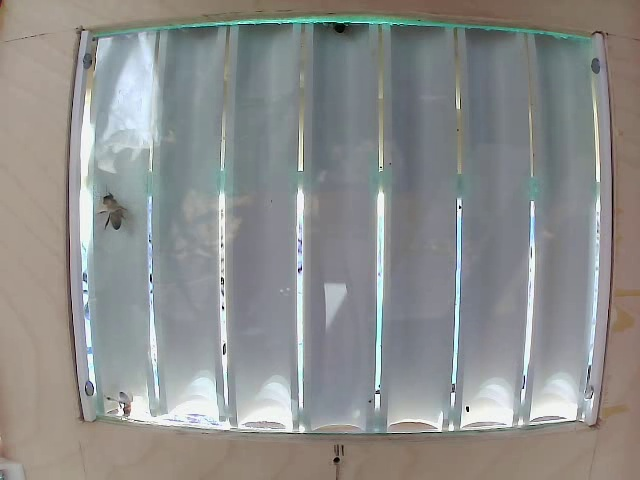bee: (99, 197, 129, 230)
